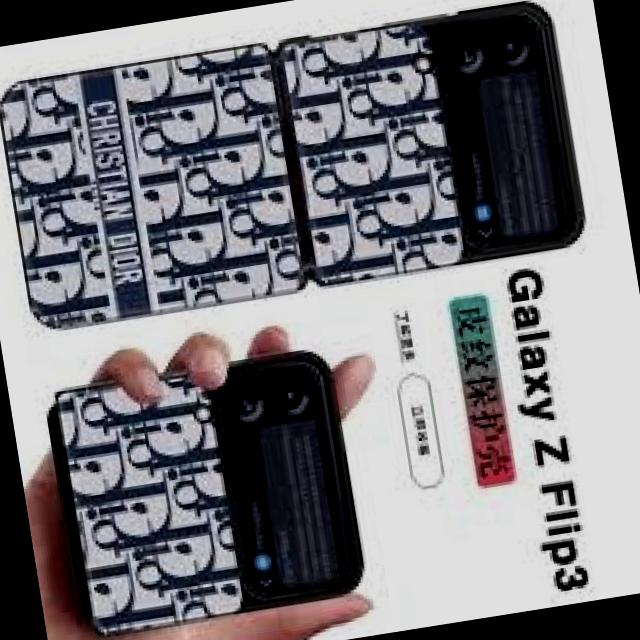lens_back: (436, 25, 491, 91), (478, 17, 536, 79), (210, 379, 266, 438), (262, 370, 309, 430)
phone: (0, 0, 595, 343)
